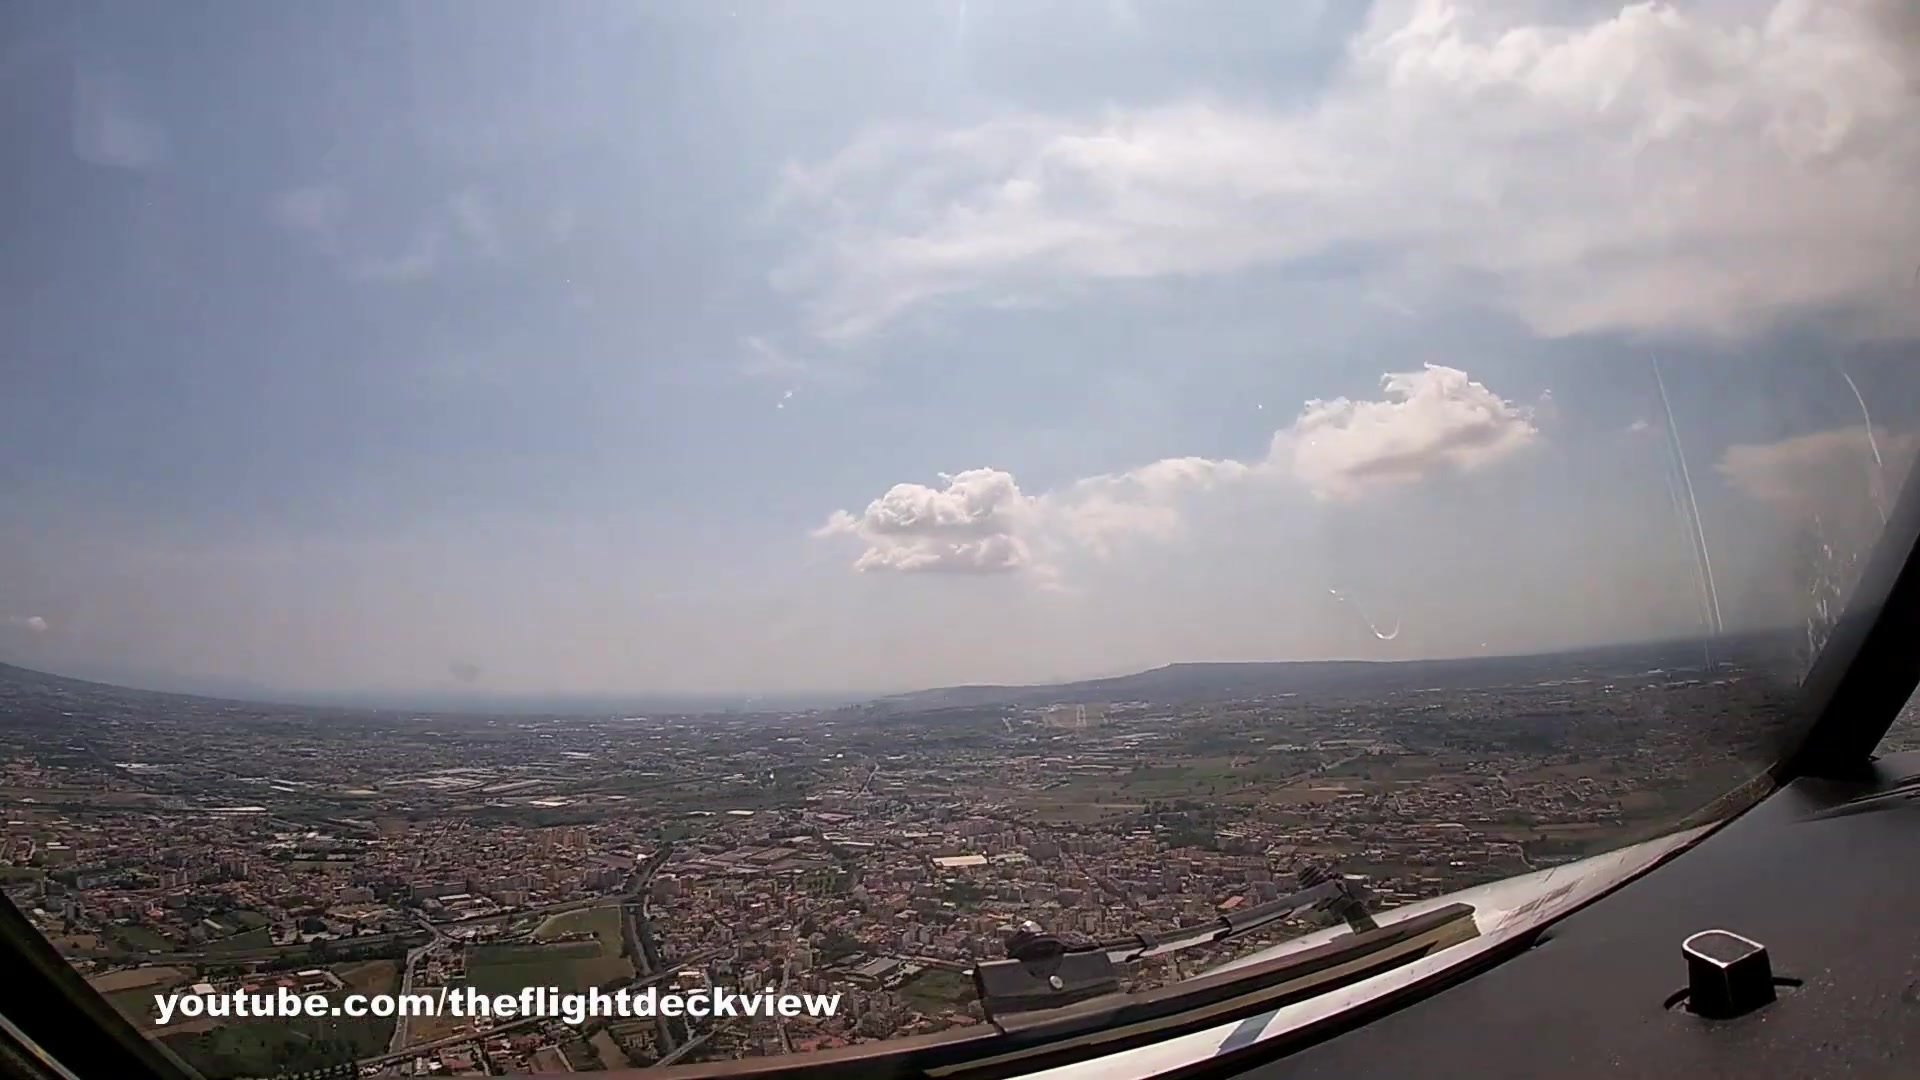runway: (1075, 704, 1087, 731)
